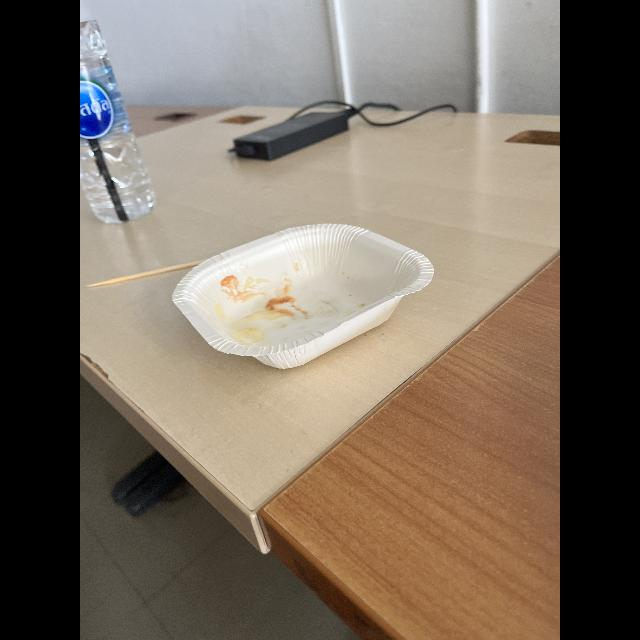cardboard_bowl: (168, 218, 442, 370)
stick: (88, 254, 206, 292)
